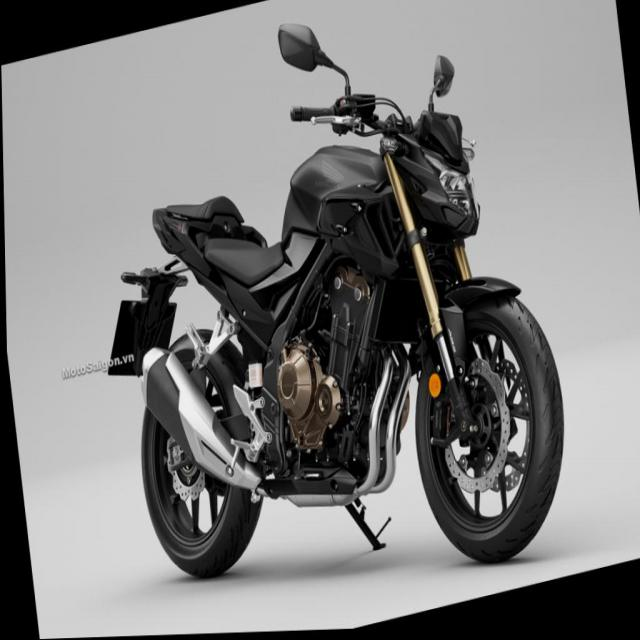CB500F: (71, 0, 580, 637)
